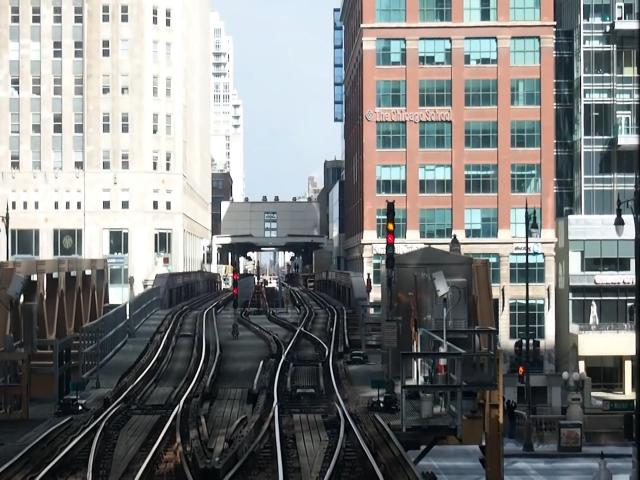signal light: (385, 201, 397, 275), (232, 266, 242, 311)
